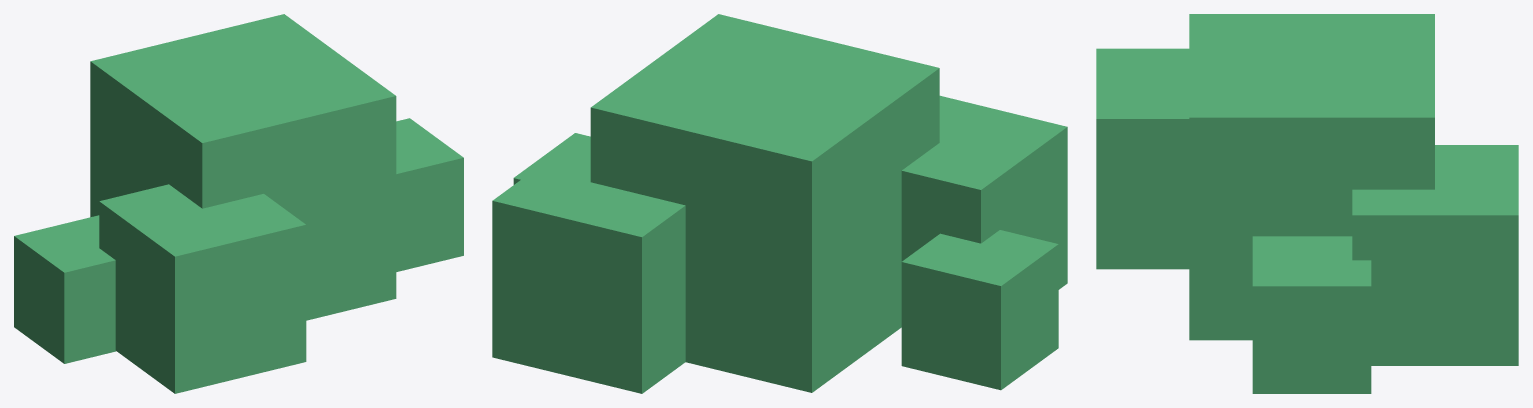
The model's file is grass02.fbx.
3 renders of one model, left to right at view 1: azimuth 30°, elevation 25°; view 2: azimuth 150°, elevation 25°; view 3: azimuth 270°, elevation 25°, orthographic. The views are drawn at different scales.
Visible parts, largest first — view 1: Cube.017; view 2: Cube.017; view 3: Cube.017.
Part boxes in pixels (x1,y1,x2,y2): Cube.017: (14,14,463,393); Cube.017: (492,14,1067,393); Cube.017: (1096,14,1518,393).
Bounding box in the file's own units: 24.32 × 11.55 × 19.69.
